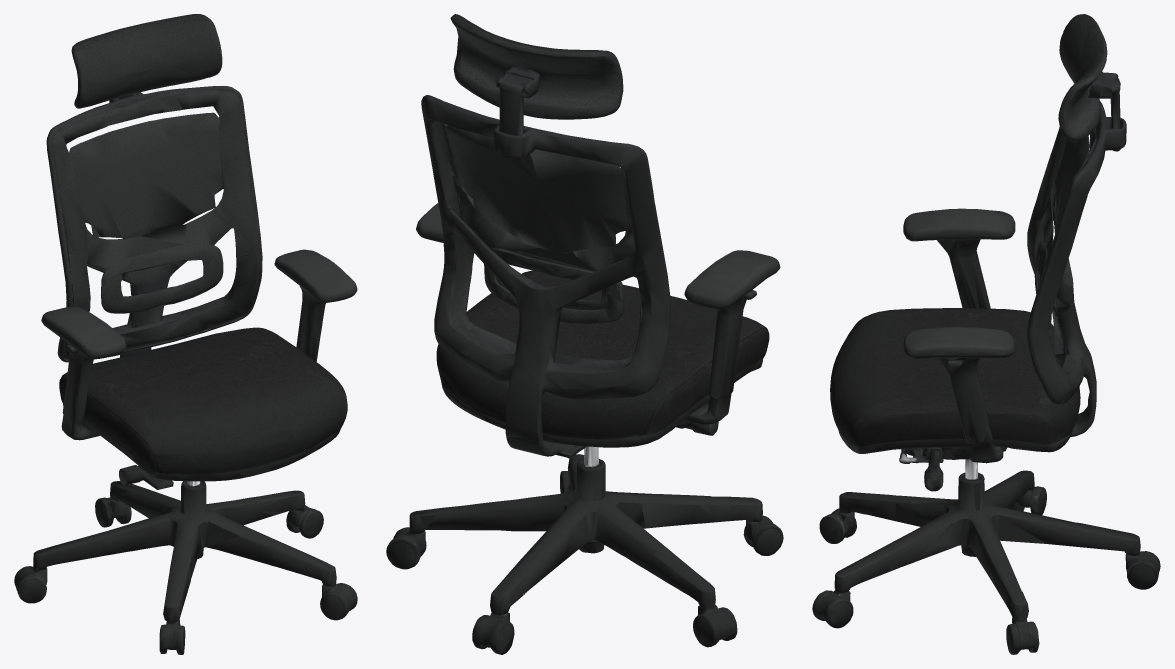
Rendered from ergonomic-chair.glb.
3 renders of one model, left to right at view 1: azimuth 30°, elevation 25°; view 2: azimuth 150°, elevation 25°; view 3: azimuth 270°, elevation 25°, orthographic. The views are drawn at different scales.
Parts seen in each view (by area): view 1: mesh_node; view 2: mesh_node; view 3: mesh_node.
Part boxes in pixels (<box>): mesh_node: <box>14,14,357,654</box>; mesh_node: <box>386,14,783,654</box>; mesh_node: <box>812,14,1160,654</box>.
Size of the model in its own units: 0.7044 by 1.15 by 0.6753.
Materials: 1 (1 with a texture image).
